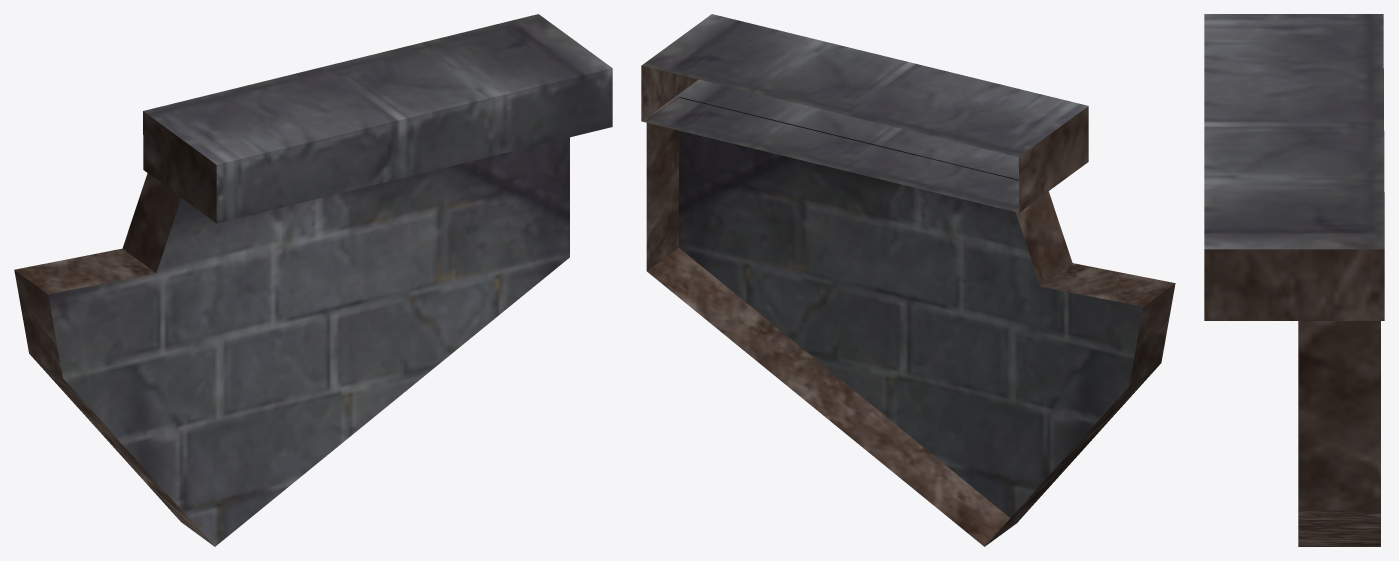
File: building_underground_feixu02.FBX
The picture shows the model from 3 angles, left to right: view 1: azimuth 30°, elevation 25°; view 2: azimuth 150°, elevation 25°; view 3: azimuth 270°, elevation 25°; orthographic projection. The views are drawn at different scales.
Visible parts, largest first — view 1: building_underground_feixu02; view 2: building_underground_feixu02; view 3: building_underground_feixu02.
Part boxes in pixels (<box>): building_underground_feixu02: <box>14,14,612,546</box>; building_underground_feixu02: <box>641,14,1175,546</box>; building_underground_feixu02: <box>1204,14,1384,546</box>.
Size of the model in its own units: 3.39 by 2.58 by 0.8271.
